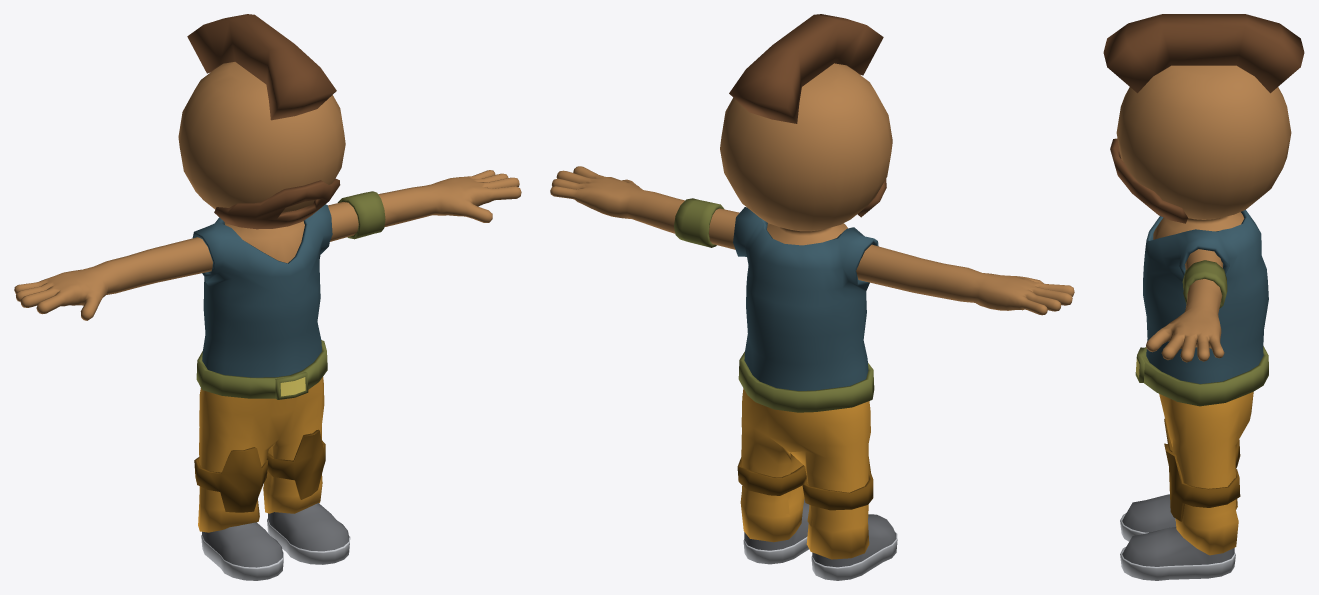
Rendered from Enemy_1.fbx.
3 renders of one model, left to right at view 1: azimuth 30°, elevation 25°; view 2: azimuth 150°, elevation 25°; view 3: azimuth 270°, elevation 25°, orthographic. The views are drawn at different scales.
Visible parts, largest first — view 1: Character-2_yellow.008; view 2: Character-2_yellow.008; view 3: Character-2_yellow.008.
Boxes of the visible parts, left/top/right/bottom form: Character-2_yellow.008: left=14, top=14, right=521, bottom=580; Character-2_yellow.008: left=550, top=14, right=1074, bottom=580; Character-2_yellow.008: left=1103, top=14, right=1304, bottom=580.
Size of the model in its own units: 185 by 181 by 62.33.
